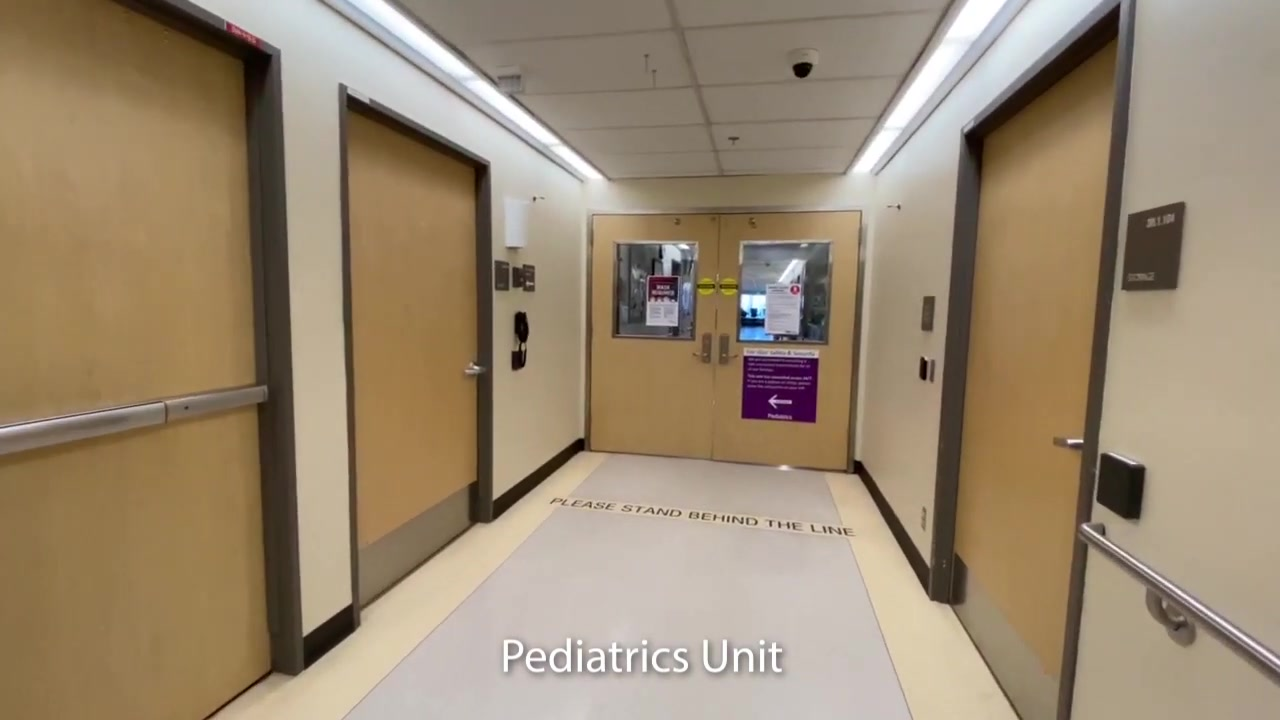door_handle: (1051, 433, 1083, 451), (463, 363, 485, 377), (690, 351, 709, 360), (720, 353, 740, 361)
hallway_assist_bar: (1078, 522, 1280, 678)
push_latch: (1, 382, 266, 458)
